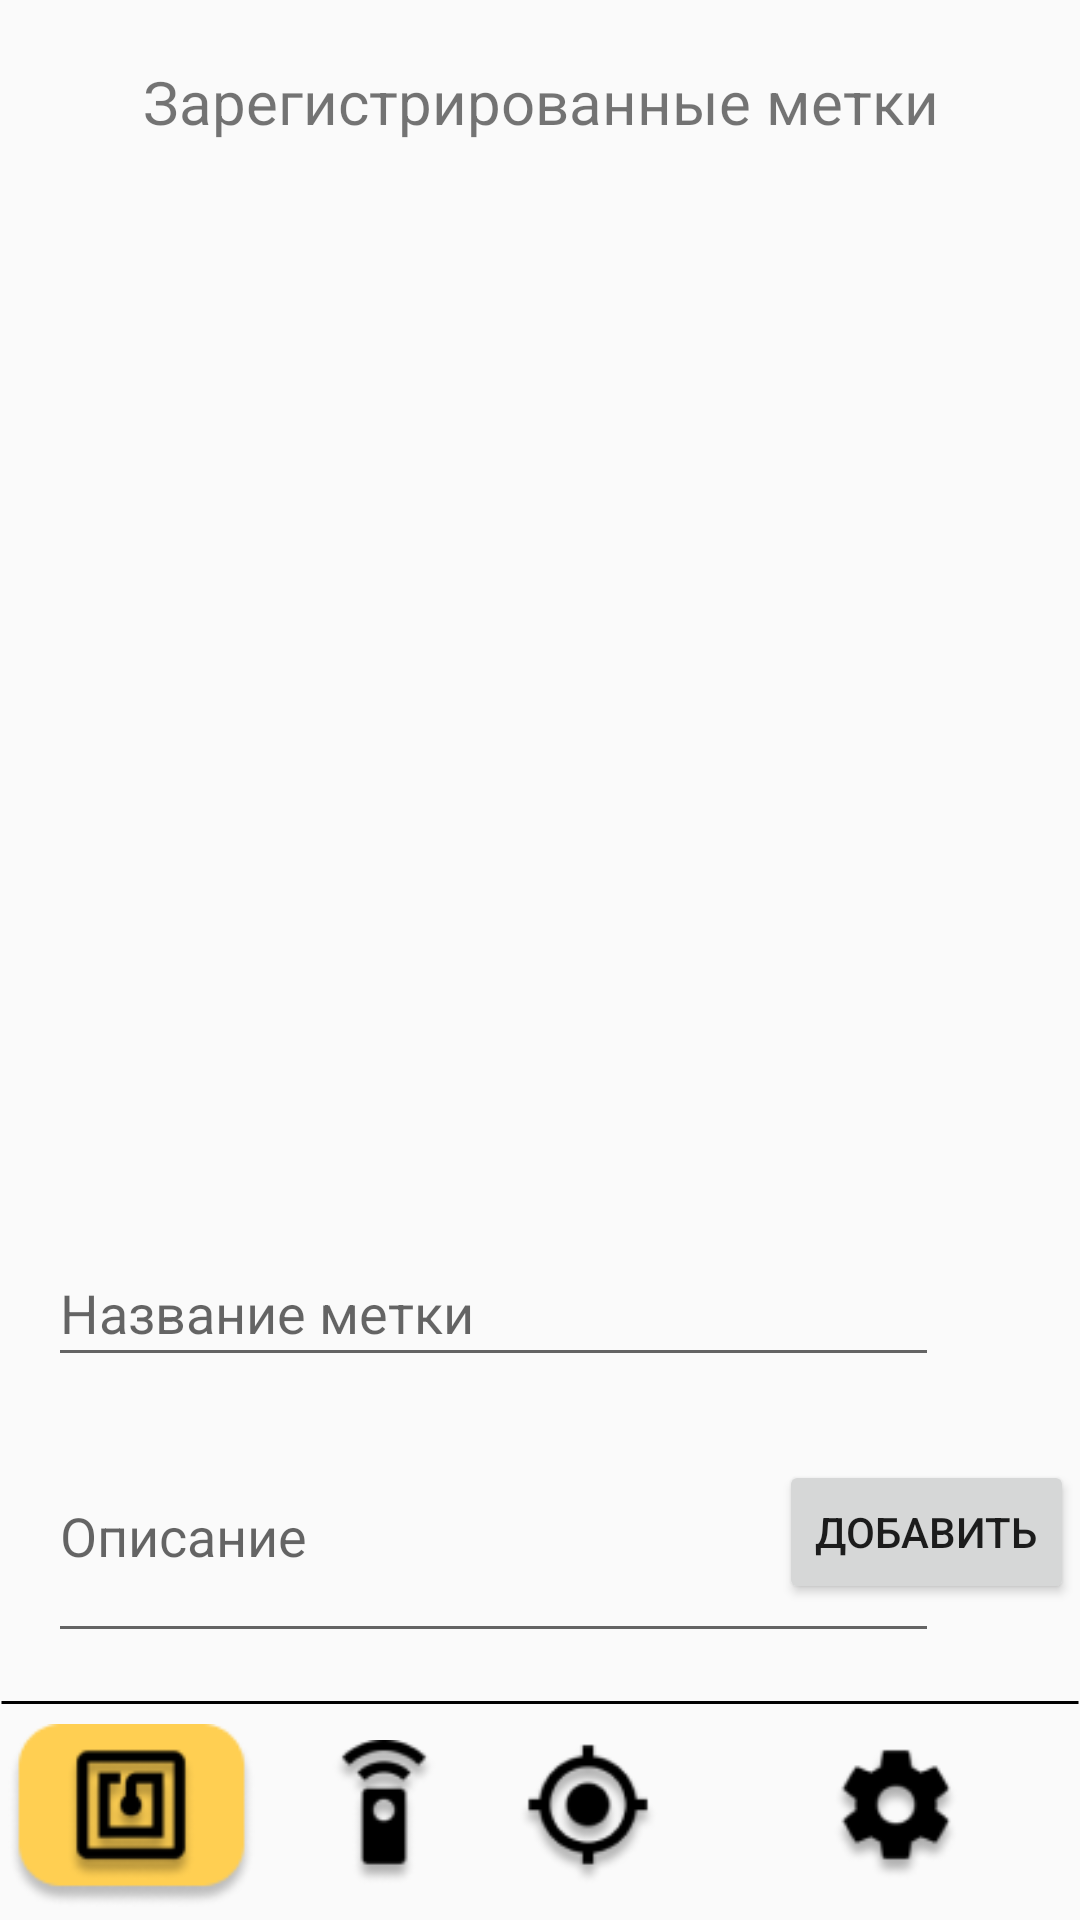

Named icons in this screenshot (1080px×1920px) and their bounding boxes, (x1, y1, x2, y2):
setting sh: (841, 1749, 950, 1871)
